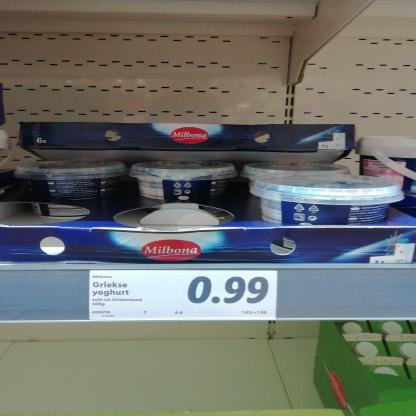prtg: (90, 271, 279, 321)
